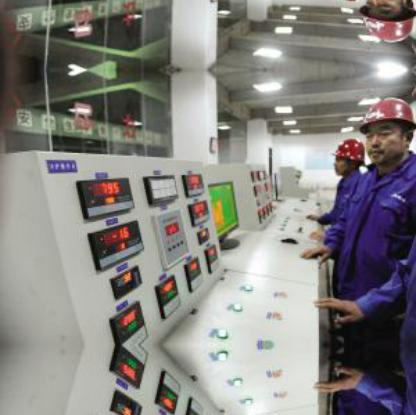Safety Helmet: (354, 92, 416, 169), (358, 2, 416, 42), (330, 135, 367, 185)
